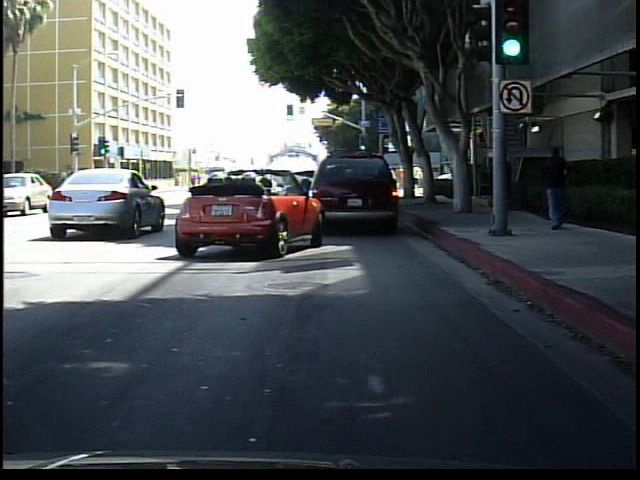person: (539, 139, 574, 233), (485, 145, 513, 216)
